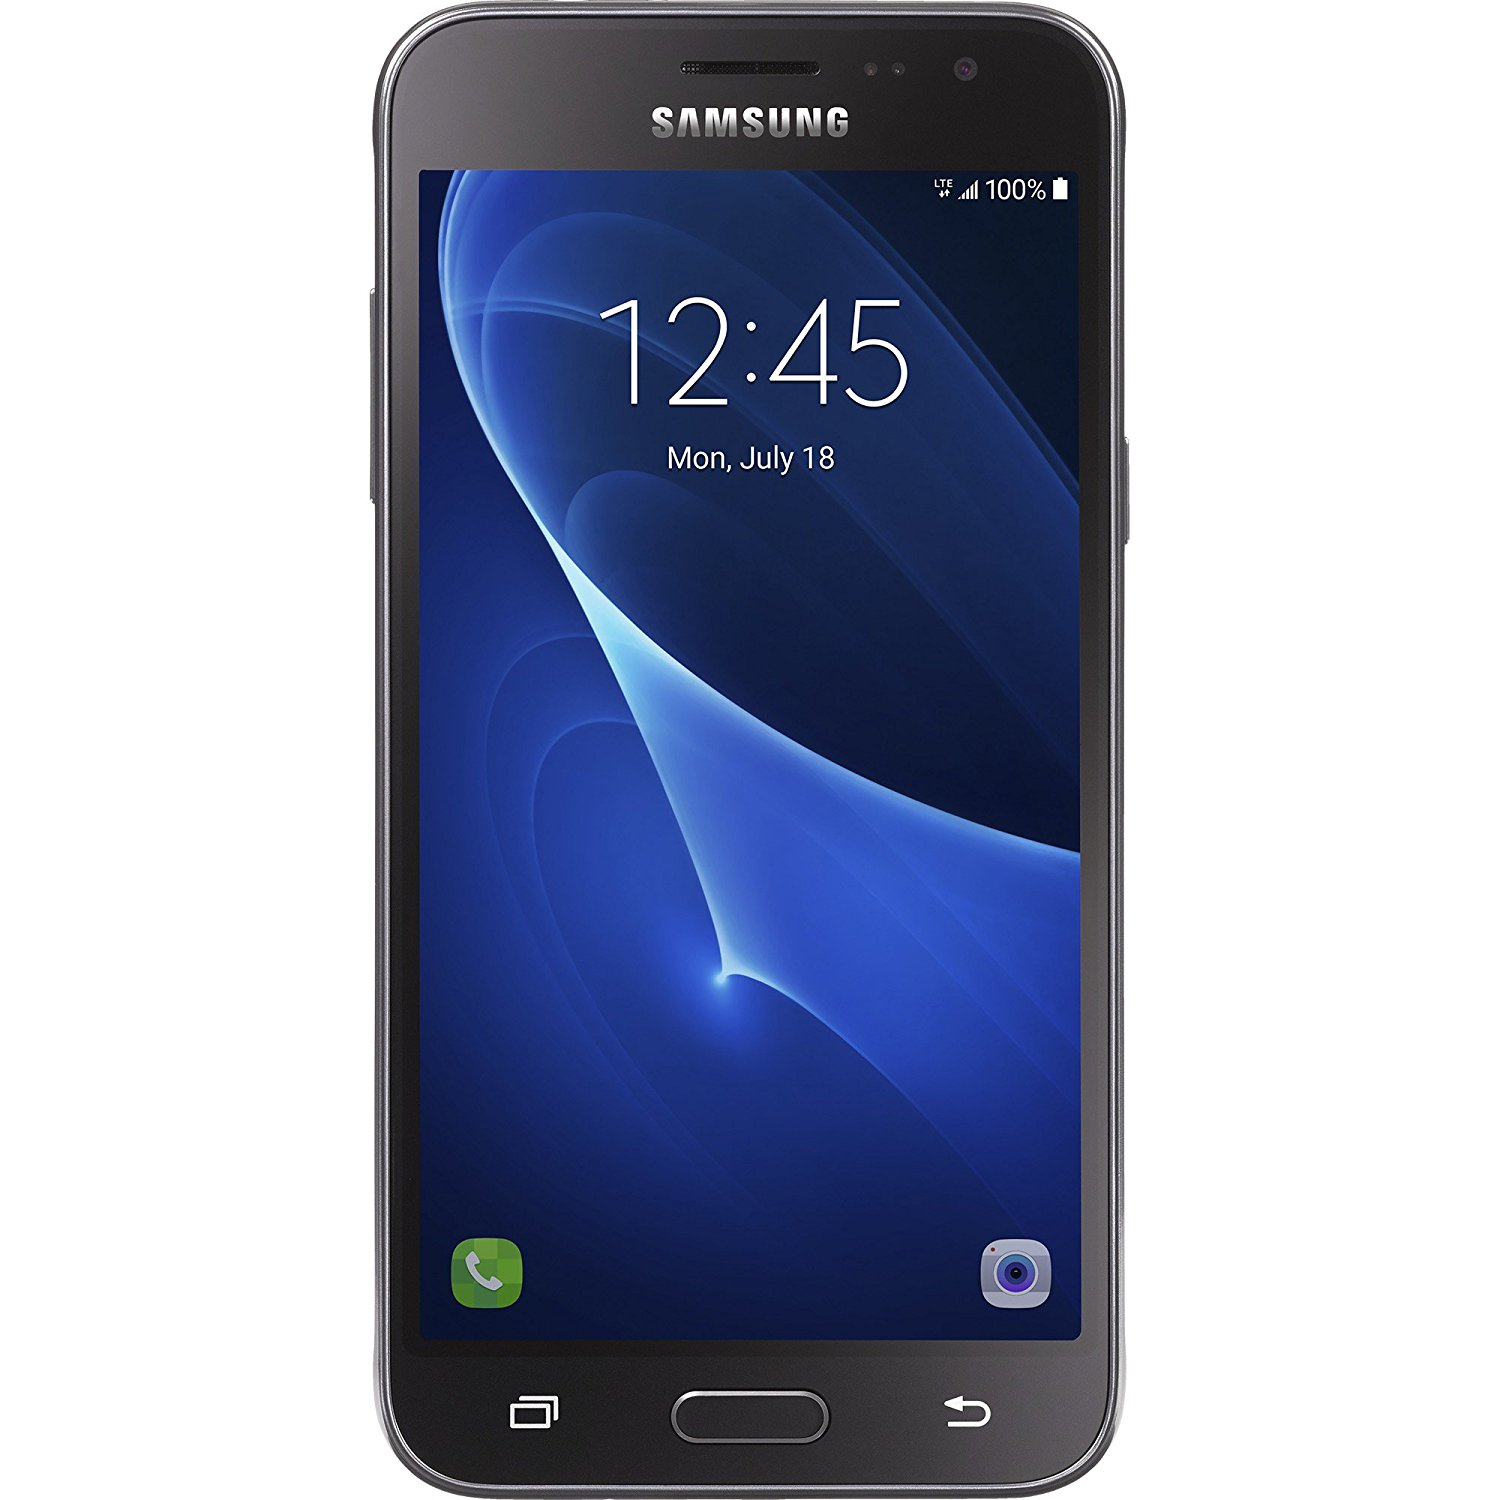smartphone: (368, 1, 1130, 1499)
